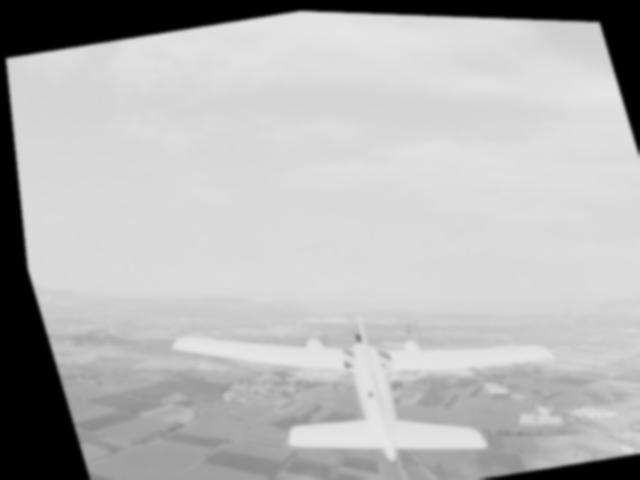hedef: (150, 255, 581, 480)
